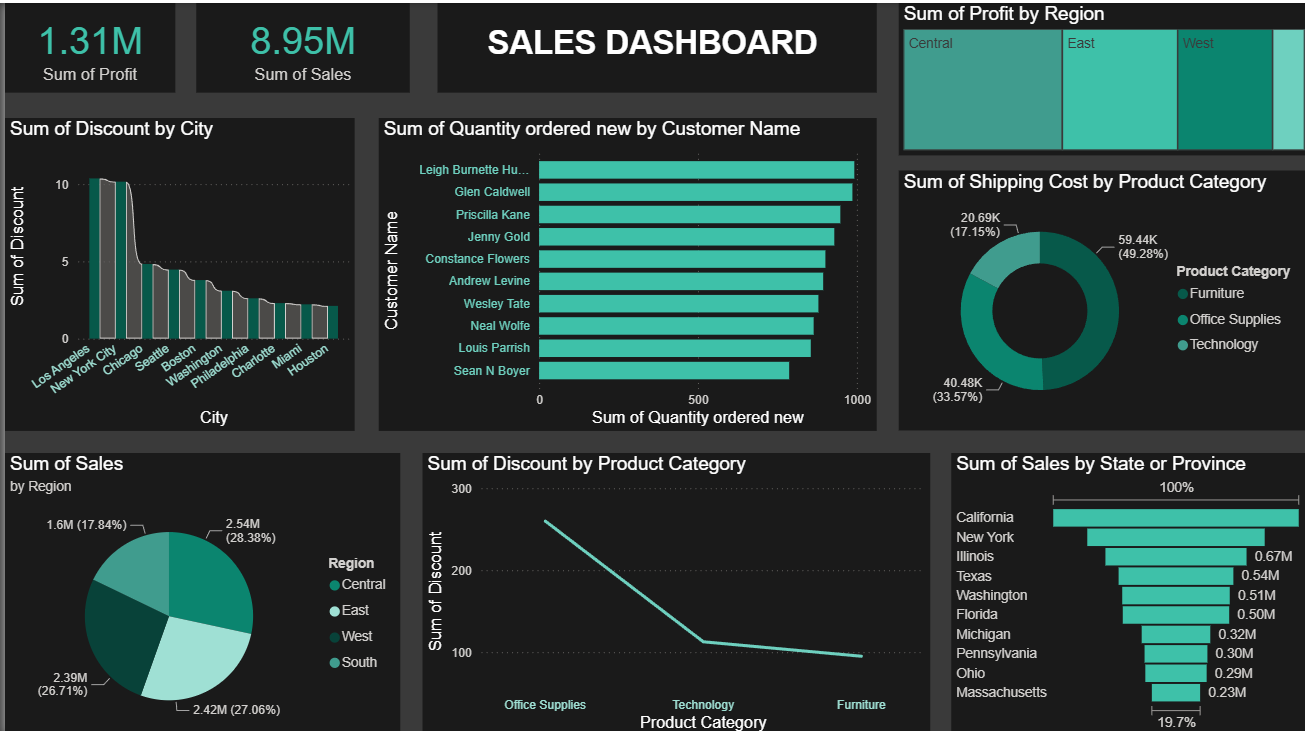

This screenshot's page, from the dashboard's own definition file:
{"tool":"powerbi","page":{"name":"Page 1","canvas":[1280,720],"ordinal":0},"visuals":[{"type":"funnel","fields":{"Y":["Sum(Orders.Sales)"],"Category":["Orders.State or Province"]},"box":[929,441.9,351.3,278.6],"z":0},{"type":"areaChart","fields":{"Y":["Sum(Orders.Discount)"],"Category":["Orders.Product Category"]},"box":[410.3,441.9,498.1,278.6],"z":1},{"type":"pieChart","fields":{"Category":["Orders.Region"],"Y":["Sum(Orders.Sales)"]},"box":[0,441.9,388.3,278.6],"z":2},{"type":"treemap","fields":{"Group":["Orders.Region"],"Values":["Sum(Orders.Profit)"]},"box":[876.8,0,403.4,149.6],"z":3},{"type":"ribbonChart","fields":{"Category":["Orders.City"],"Y":["Sum(Orders.Discount)"]},"box":[0,112.5,343.1,307.4],"z":4},{"type":"donutChart","fields":{"Series":["Orders.Product Category"],"Y":["Sum(Orders.Shipping Cost)"]},"box":[876.8,164.7,403.4,255.2],"z":5},{"type":"barChart","fields":{"Category":["Orders.Customer Name"],"Y":["Sum(Orders.Quantity ordered new)"]},"box":[366.4,112.5,488.5,307.4],"z":6},{"type":"card","fields":{"Values":["Sum(Orders.Profit)"]},"box":[0,0,167.4,87.8],"z":8},{"type":"card","fields":{"Values":["Sum(Orders.Sales)"]},"box":[188,0,209.9,87.8],"z":9},{"type":"textbox","box":[424,0,430.9,87.8],"z":10}]}

Visuals, with their boxes in screenshot pixels (x1, y1, x2, y2), scaled from the page's 1280x720 canvas onto the 1305x731 screenshot:
funnel - Sum(Orders.Sales) x Orders.State or Province: bbox=(947, 449, 1304, 730)
areaChart - Sum(Orders.Discount) x Orders.Product Category: bbox=(418, 449, 926, 730)
pieChart - Orders.Region x Sum(Orders.Sales): bbox=(0, 449, 396, 730)
treemap - Orders.Region x Sum(Orders.Profit): bbox=(894, 0, 1304, 152)
ribbonChart - Orders.City x Sum(Orders.Discount): bbox=(0, 114, 350, 426)
donutChart - Orders.Product Category x Sum(Orders.Shipping Cost): bbox=(894, 167, 1304, 426)
barChart - Orders.Customer Name x Sum(Orders.Quantity ordered new): bbox=(374, 114, 872, 426)
card - Sum(Orders.Profit): bbox=(0, 0, 171, 89)
card - Sum(Orders.Sales): bbox=(192, 0, 406, 89)
textbox: bbox=(432, 0, 872, 89)
